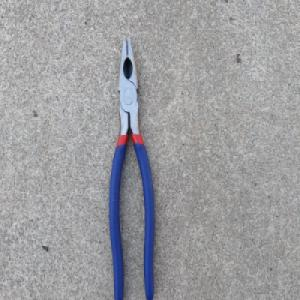Pliers: (107, 35, 155, 300)
